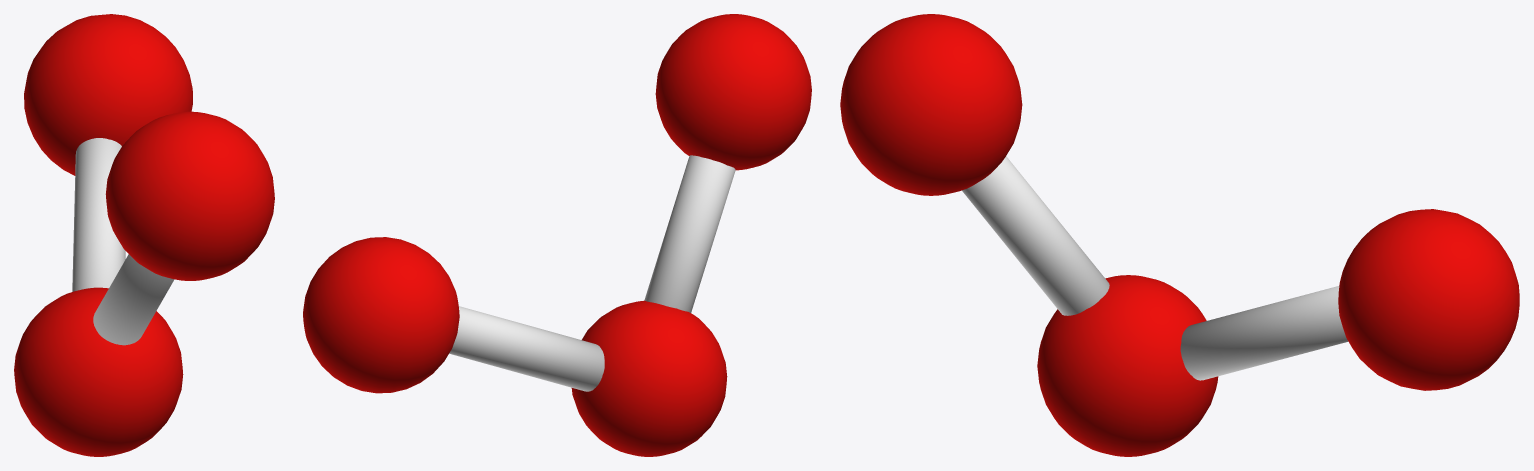
File: molecule.fbx
The picture shows the model from 3 angles, left to right: view 1: azimuth 30°, elevation 25°; view 2: azimuth 150°, elevation 25°; view 3: azimuth 270°, elevation 25°; orthographic projection. The views are drawn at different scales.
Parts seen in each view (by area): view 1: Cylinder.001, Cylinder; view 2: Cylinder.001, Cylinder; view 3: Cylinder.001, Cylinder.
Part boxes in pixels (x1,y1,x2,y2): Cylinder.001: (14, 14, 274, 456); Cylinder: (72, 138, 174, 345); Cylinder.001: (303, 14, 811, 456); Cylinder: (449, 155, 735, 391); Cylinder.001: (840, 14, 1519, 456); Cylinder: (962, 156, 1348, 380).
Size of the model in its own units: 223 by 285 by 412.
